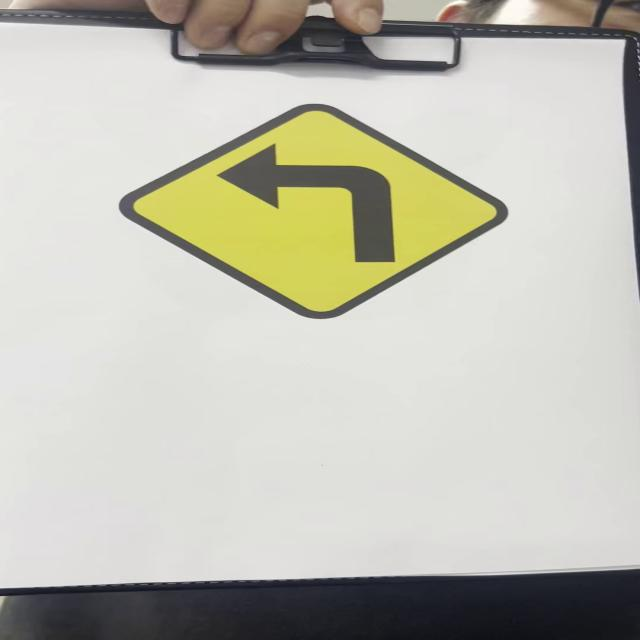left: (123, 105, 515, 317)
